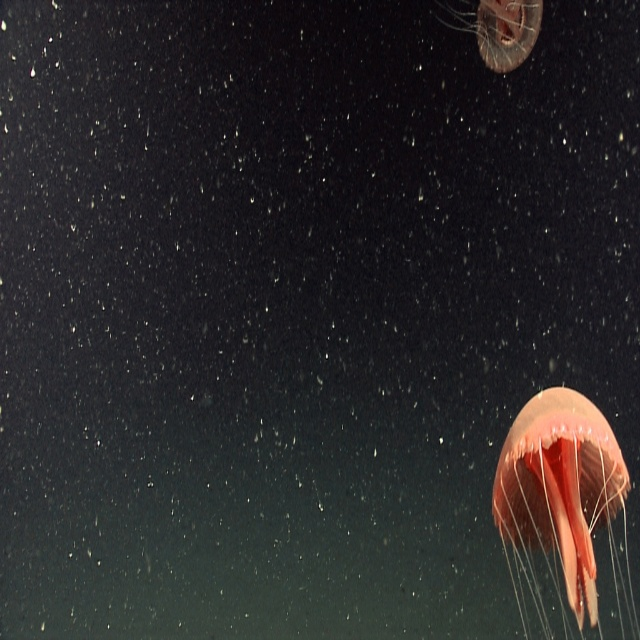Jellyfish: (506, 397, 636, 621), (447, 0, 544, 79)
